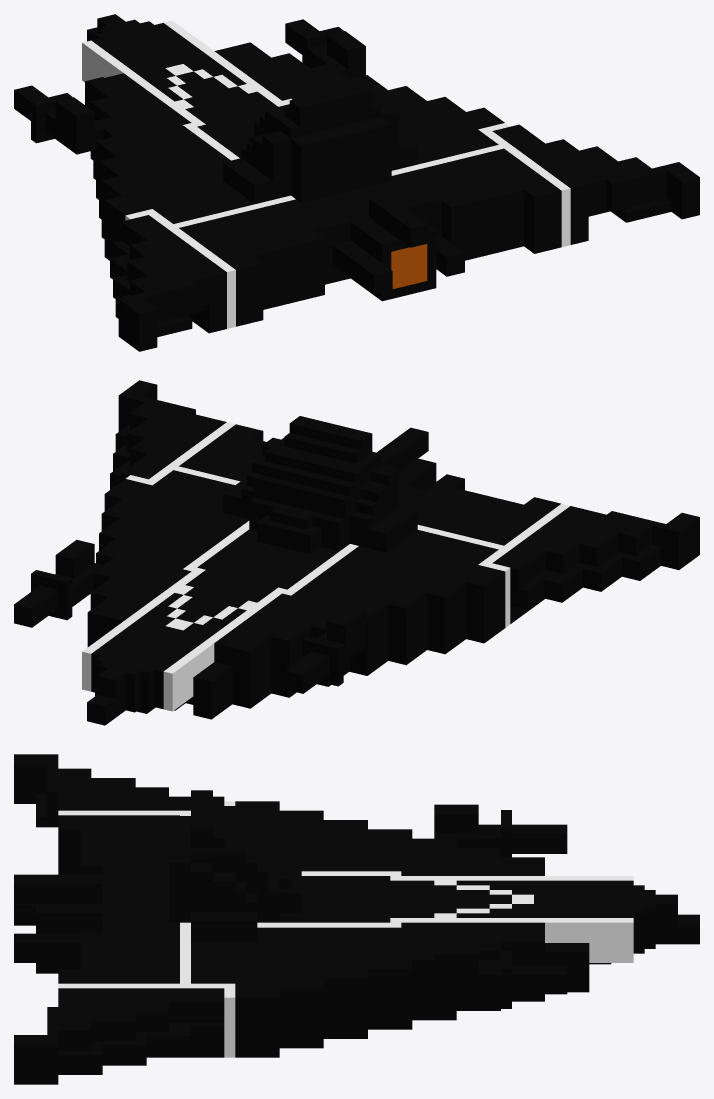
The model's file is Ship 03.FBX.
3 renders of one model, top to bottom at view 1: azimuth 30°, elevation 25°; view 2: azimuth 150°, elevation 25°; view 3: azimuth 270°, elevation 25°, orthographic. The views are drawn at different scales.
Visible parts, largest first — view 1: 5_Ship, Object, Object002; view 2: 5_Ship, Object; view 3: 5_Ship, Object.
Boxes of the visible parts, x1,y1,x2,y2 form: 5_Ship: (14,14,699,351); Object: (82,20,570,328); Object002: (391,244,427,288); 5_Ship: (14,380,699,725); Object: (82,422,569,711); 5_Ship: (14,754,699,1084); Object: (58,801,633,1057).
Bounding box in the file's own units: 62 × 15 × 62.
